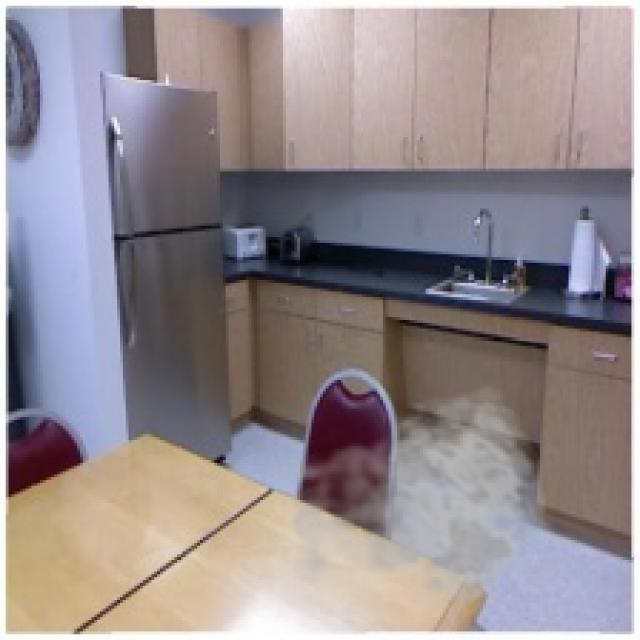Smoke: (272, 383, 548, 626)
